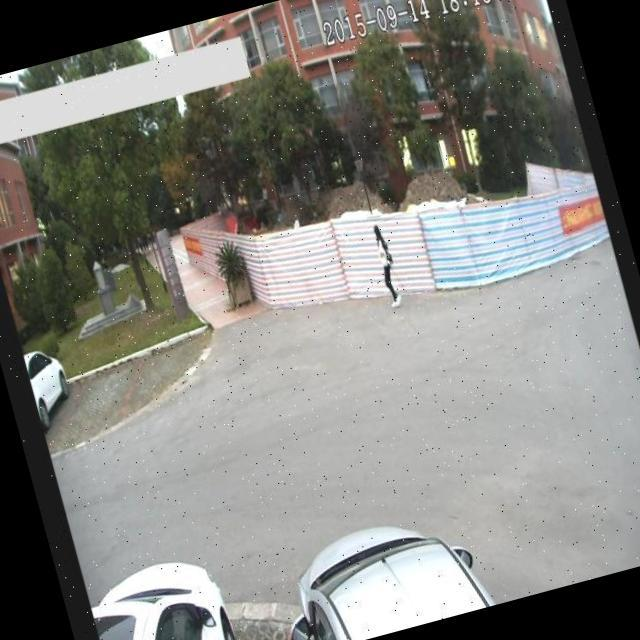person: (366, 222, 409, 314)
